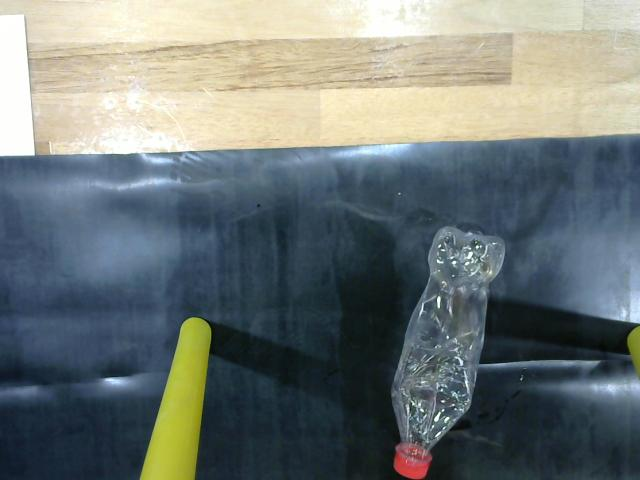bottle: (386, 209, 518, 480)
